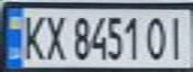1: (121, 14, 142, 61)
4: (87, 12, 109, 61)
5: (106, 14, 127, 61)
8: (69, 12, 93, 61)
I: (163, 12, 193, 62)
K: (18, 11, 48, 61)
O: (142, 12, 172, 61)
X: (39, 11, 69, 62)
